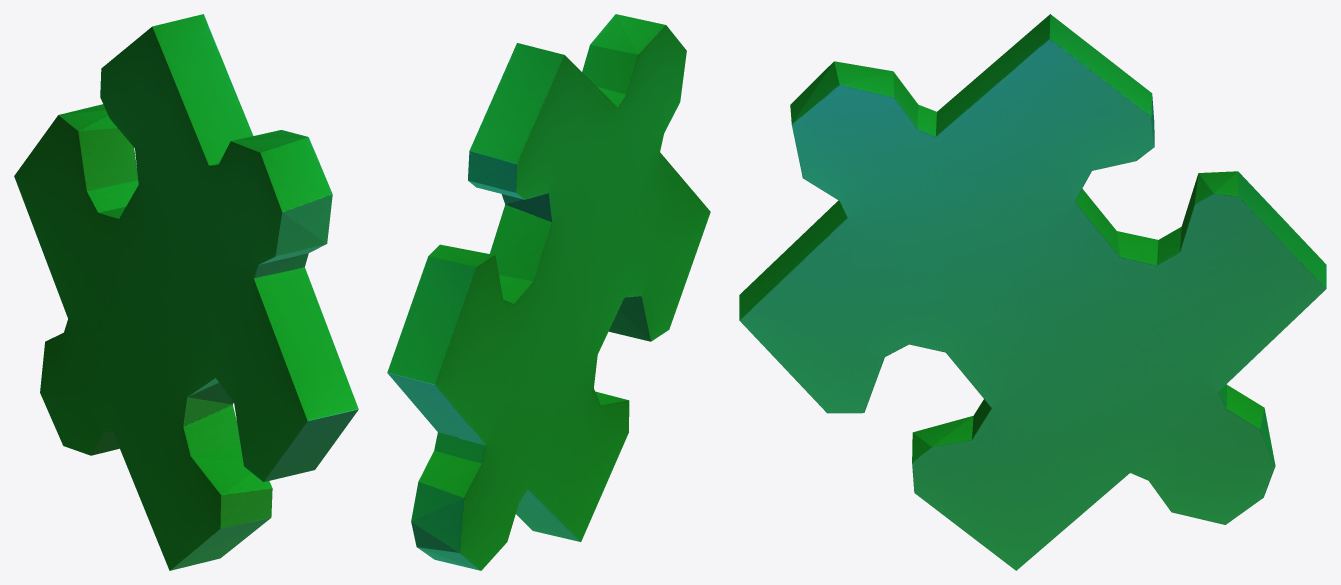
The model's file is Emoji_puzzle_piece.glb.
3 views of the same model, side by side, from view 1: azimuth 30°, elevation 25°; view 2: azimuth 150°, elevation 25°; view 3: azimuth 270°, elevation 25° (orthographic). The views are drawn at different scales.
Parts seen in each view (by area): view 1: Emoji; view 2: Emoji; view 3: Emoji.
Boxes of the visible parts, x1,y1,x2,y2 form: Emoji: [14, 14, 358, 570]; Emoji: [387, 14, 710, 570]; Emoji: [739, 14, 1326, 570].
Size of the model in its own units: 0.0818 by 0.8113 by 0.8113.
1 material, 1 textured.
